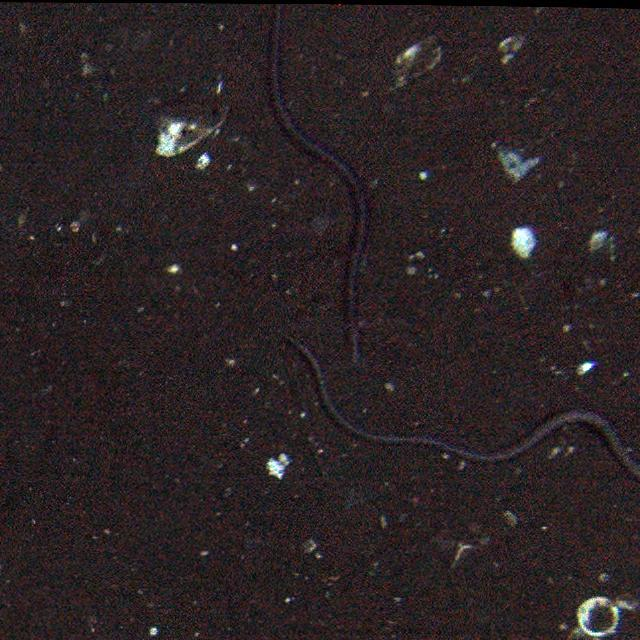eel: (272, 325, 640, 477), (269, 3, 379, 365)
